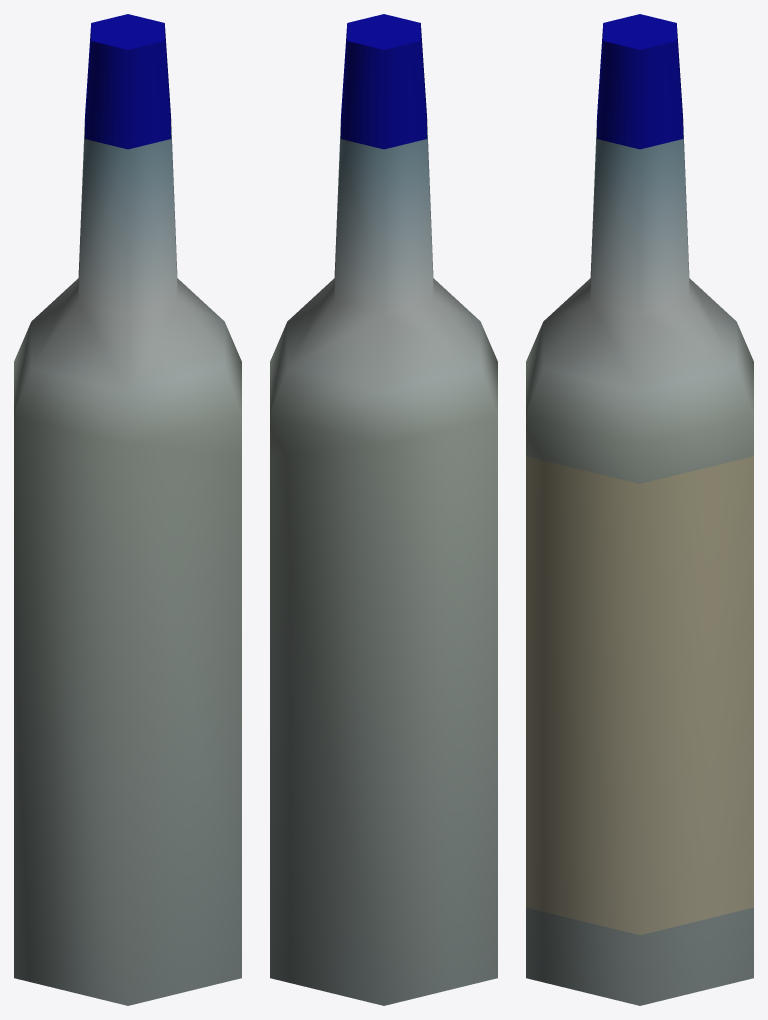
The picture shows the model from 3 angles, left to right: view 1: azimuth 30°, elevation 25°; view 2: azimuth 150°, elevation 25°; view 3: azimuth 270°, elevation 25°; orthographic projection.
Visible parts, largest first — view 1: G:\FFXIV-MapTools\exports\w1f4\bg\ffxiv\wil_w1\fld\common\bg (×2); view 2: G:\FFXIV-MapTools\exports\w1f4\bg\ffxiv\wil_w1\fld\common\bg (×2); view 3: G:\FFXIV-MapTools\exports\w1f4\bg\ffxiv\wil_w1\fld\common\bg (×2).
Boxes of the visible parts, bbox=[...] form: G:\FFXIV-MapTools\exports\w1f4\bg\ffxiv\wil_w1\fld\common\bg (×2): bbox=[14, 14, 241, 1005]; G:\FFXIV-MapTools\exports\w1f4\bg\ffxiv\wil_w1\fld\common\bg (×2): bbox=[270, 14, 497, 1005]; G:\FFXIV-MapTools\exports\w1f4\bg\ffxiv\wil_w1\fld\common\bg (×2): bbox=[526, 14, 753, 1005].
Bounding box in the file's own units: 0.108 × 0.416 × 0.0935.
